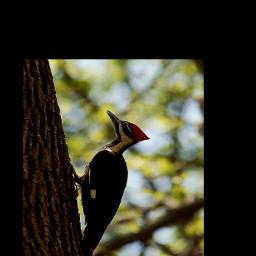Woodpecker: (60, 109, 151, 256)
